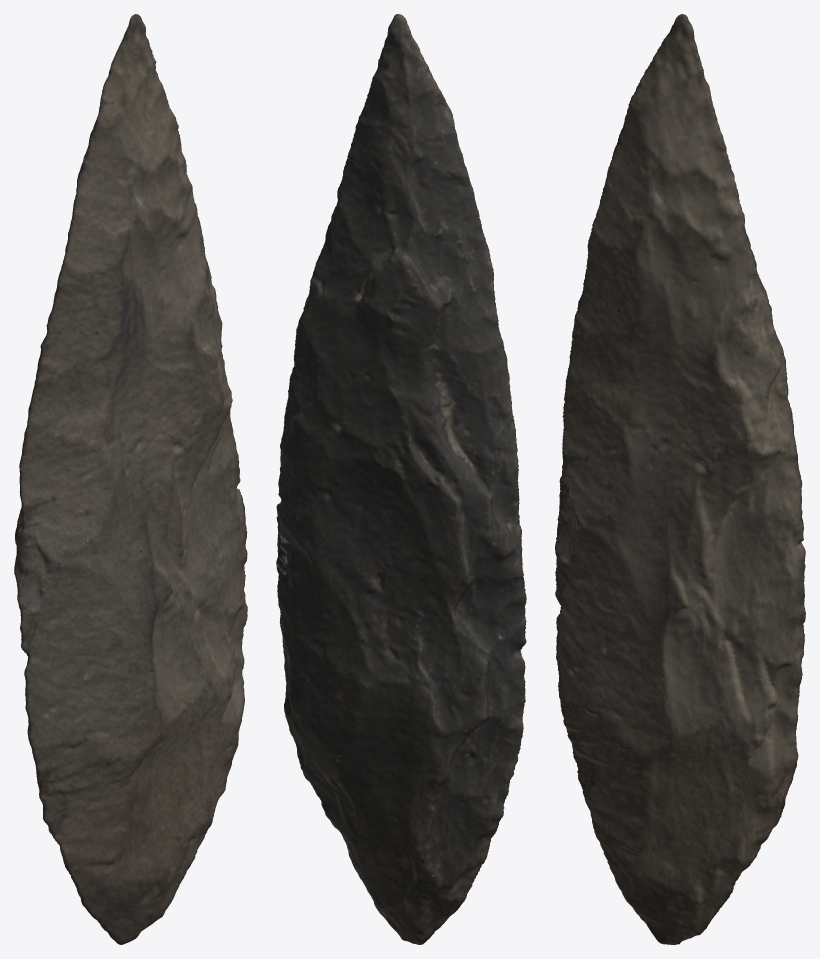
File: sentouki.glb
3 renders of one model, left to right at view 1: azimuth 30°, elevation 25°; view 2: azimuth 150°, elevation 25°; view 3: azimuth 330°, elevation 25°, orthographic.
Parts seen in each view (by area): view 1: sentouki; view 2: sentouki; view 3: sentouki.
Boxes of the visible parts, left/top/right/bottom form: sentouki: left=14, top=14, right=247, bottom=944; sentouki: left=276, top=14, right=526, bottom=944; sentouki: left=555, top=14, right=805, bottom=944.
Size of the model in its own units: 0.0376 by 0.1386 by 0.0122.
1 material, 1 textured.
